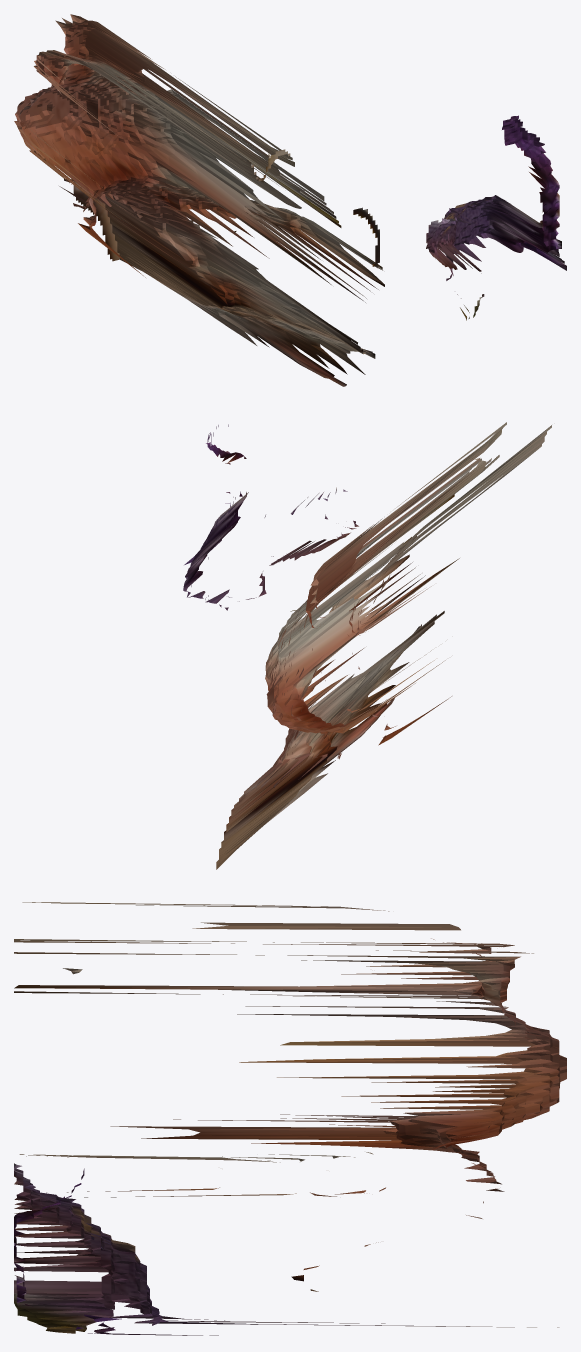
File: frame_00318.glb
3 views of the same model, one above another, from view 1: azimuth 30°, elevation 25°; view 2: azimuth 150°, elevation 25°; view 3: azimuth 270°, elevation 25° (orthographic). The views are drawn at different scales.
Parts seen in each view (by area): view 1: geometry_0; view 2: geometry_0; view 3: geometry_0.
Boxes of the visible parts, x1,y1,x2,y2 form: geometry_0: (14,14,566,386); geometry_0: (183,422,551,869); geometry_0: (14,902,566,1335).
Bounding box in the file's own units: 0.1387 × 0.1144 × 0.16.
Materials: 1 (1 with a texture image).
